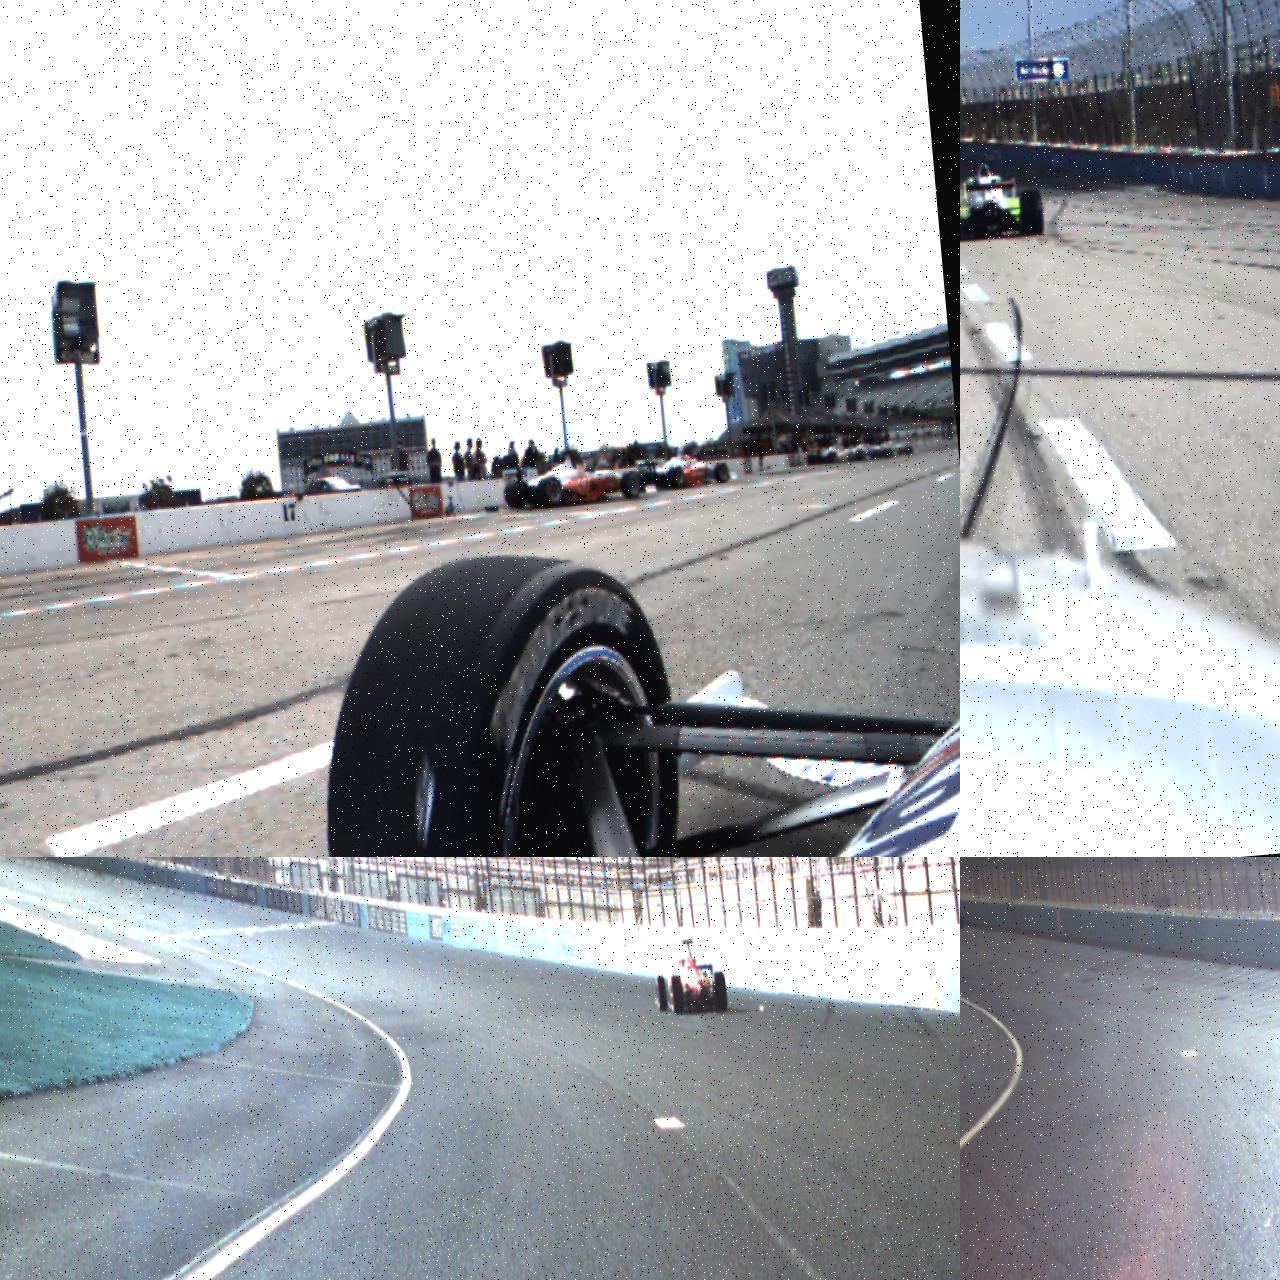AV: (501, 443, 658, 512), (960, 154, 1047, 246), (649, 937, 729, 1016)
Wheel: (305, 538, 706, 857), (1017, 190, 1046, 238), (536, 475, 565, 509), (503, 479, 530, 511), (712, 971, 729, 1010), (620, 470, 641, 501), (670, 974, 685, 1014), (666, 465, 687, 491), (655, 975, 667, 1010), (713, 462, 730, 484), (960, 913, 964, 930)
